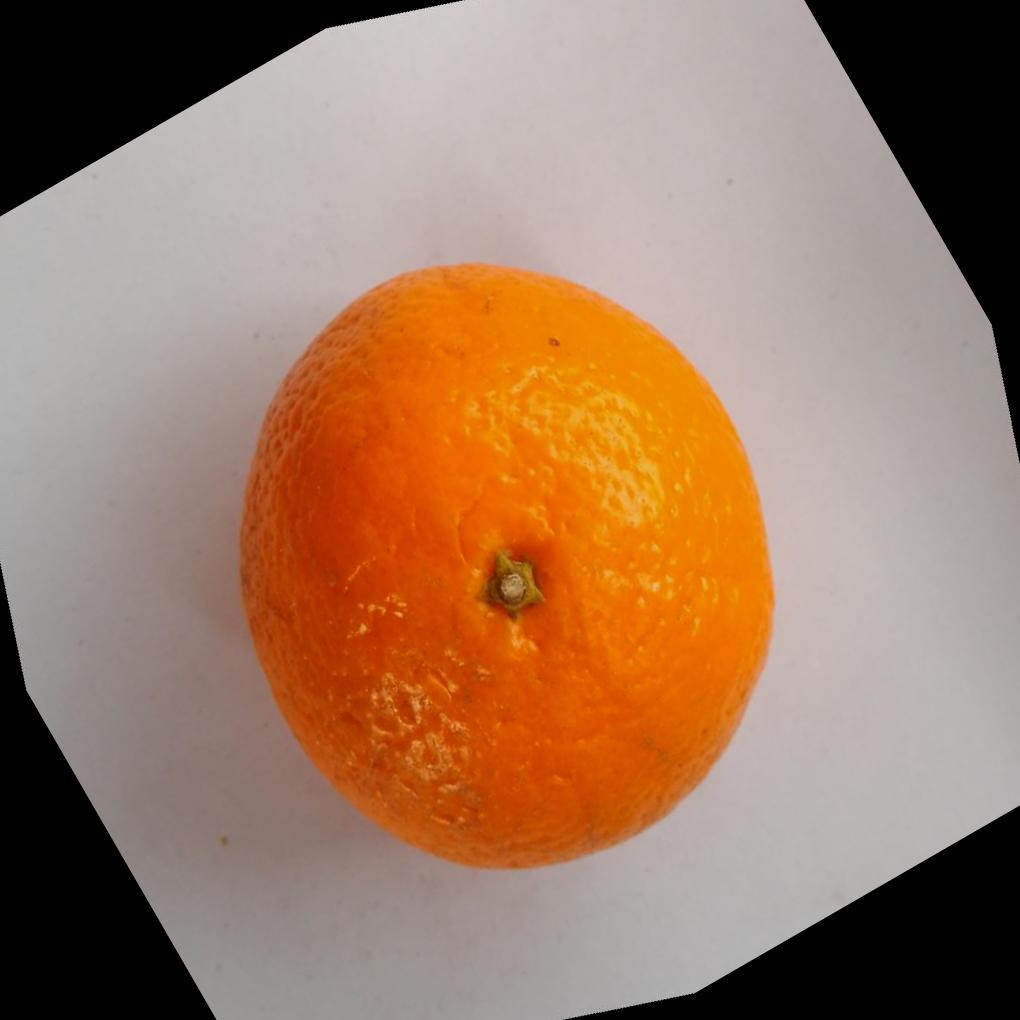FreshGuava: (232, 261, 773, 874)
